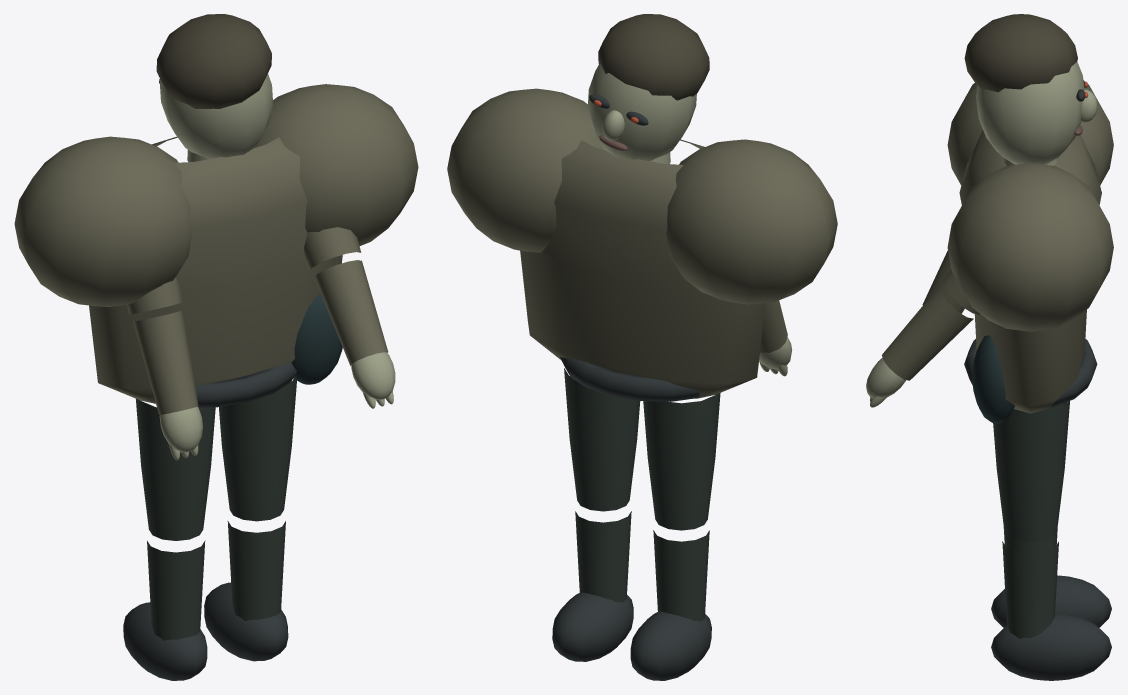
Rendered from boss-0.glb.
3 renders of one model, left to right at view 1: azimuth 30°, elevation 25°; view 2: azimuth 150°, elevation 25°; view 3: azimuth 270°, elevation 25°, orthographic. The views are drawn at different scales.
Parts seen in each view (by area): view 1: object 1, object 15, object 16, head, kneeL, kneeR, legR, legL, elbowR, elbowL, object 14, object 3 (+2 smaller); view 2: object 1, object 15, object 16, head, legL, kneeL, kneeR, legR, object 3, elbowL; view 3: object 16, head, kneeR, object 1, legR, elbowR, object 15, kneeL, object 14, object 3, elbowL, armR.
Part boxes in pixels (bbox=[...]): object 1: bbox=[89, 136, 342, 403]; object 15: bbox=[14, 136, 191, 306]; object 16: bbox=[255, 84, 418, 245]; head: bbox=[156, 14, 273, 158]; kneeL: bbox=[123, 540, 207, 680]; kneeR: bbox=[204, 521, 288, 661]; legR: bbox=[219, 379, 296, 521]; legL: bbox=[136, 399, 215, 540]; elbowR: bbox=[314, 260, 395, 408]; elbowL: bbox=[133, 310, 202, 460]; object 14: bbox=[291, 294, 342, 384]; object 3: bbox=[195, 363, 296, 407]; object 1: bbox=[520, 139, 765, 398]; object 15: bbox=[666, 139, 837, 304]; object 16: bbox=[447, 88, 604, 252]; head: bbox=[587, 14, 709, 160]; legL: bbox=[643, 393, 720, 530]; kneeL: bbox=[630, 530, 711, 680]; kneeR: bbox=[552, 511, 633, 661]; legR: bbox=[564, 368, 640, 511]; object 3: bbox=[560, 357, 699, 401]; elbowL: bbox=[759, 300, 791, 376]; object 16: bbox=[947, 163, 1113, 331]; head: bbox=[964, 14, 1097, 164]; kneeR: bbox=[991, 541, 1111, 680]; object 1: bbox=[959, 130, 1101, 413]; legR: bbox=[993, 401, 1069, 541]; elbowR: bbox=[866, 285, 973, 407]; object 15: bbox=[947, 81, 1113, 185]; kneeL: bbox=[991, 527, 1111, 627]; object 14: bbox=[972, 335, 1014, 423]; object 3: bbox=[964, 339, 1097, 406]; elbowL: bbox=[922, 250, 964, 313]; armR: bbox=[942, 269, 980, 314].
Size of the model in its own units: 1.14 by 1.86 by 0.6556.
